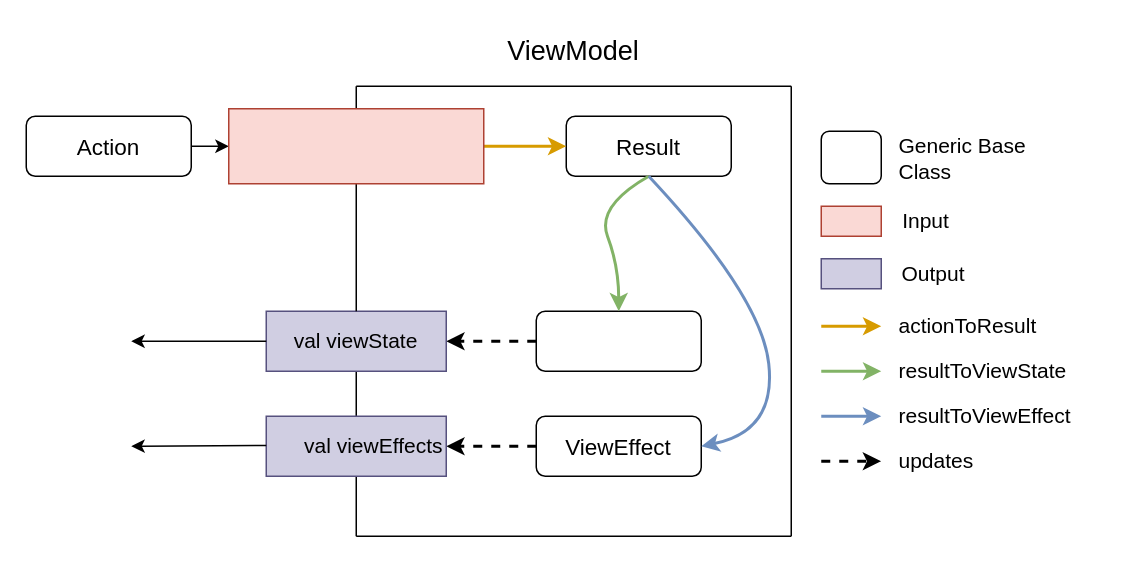
Image size: 1133x564. Some labels were removed from this diagram. The centre of each missing label's shape, as x and y in pixels:
"fun process(action: A)" goes at pixel 355 145.
"ViewState" goes at pixel 618 340.
